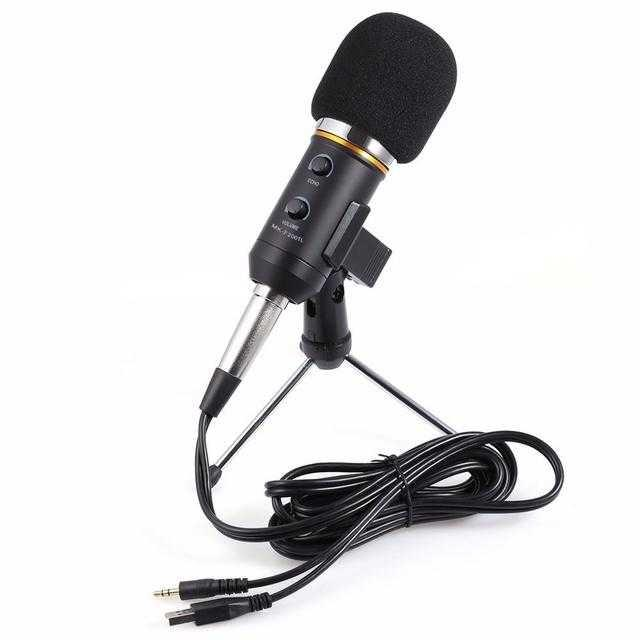microphone: (254, 13, 462, 323)
